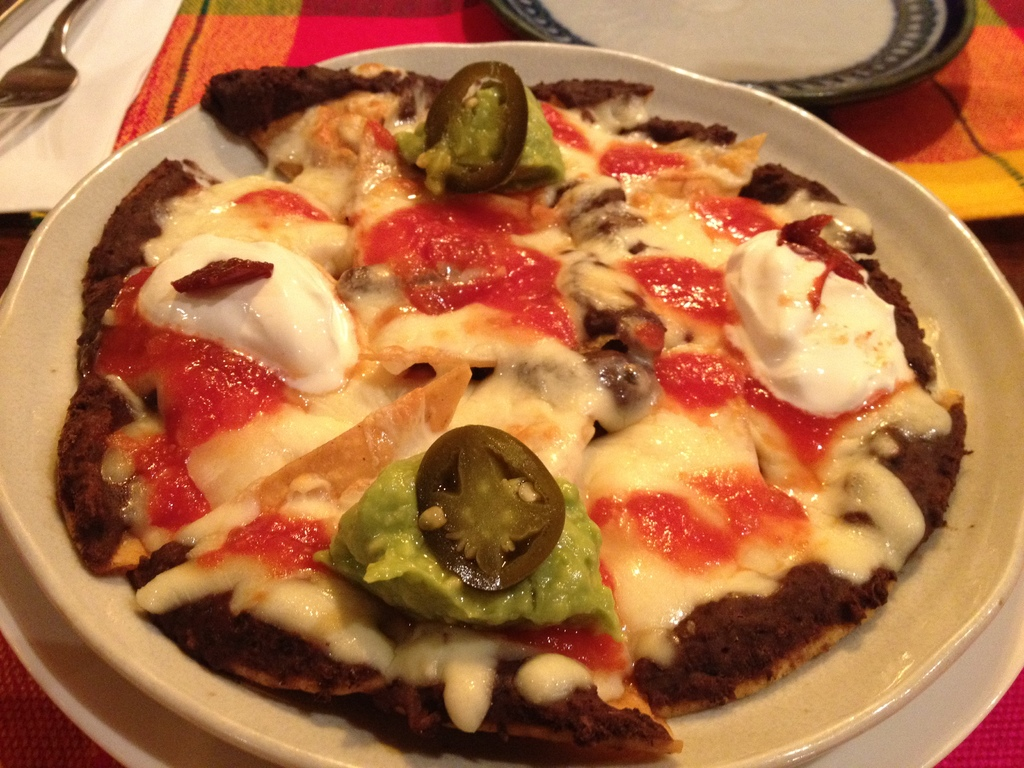Pizza: (32, 55, 1009, 748)
